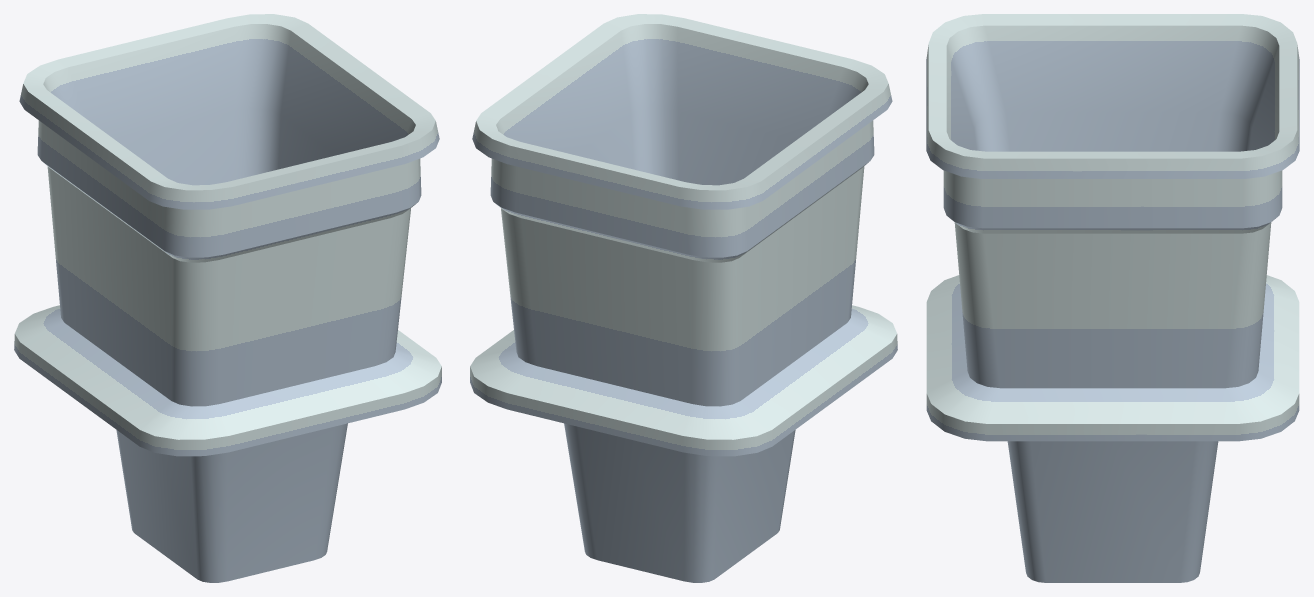
Rendered from separadoresBln.fbx.
The picture shows the model from 3 angles, left to right: view 1: azimuth 30°, elevation 25°; view 2: azimuth 150°, elevation 25°; view 3: azimuth 270°, elevation 25°; orthographic projection. The views are drawn at different scales.
Visible parts, largest first — view 1: separadoresBln; view 2: separadoresBln; view 3: separadoresBln.
Boxes of the visible parts, box(x1,y1,x2,y2) form: separadoresBln: box(14, 14, 441, 582); separadoresBln: box(470, 14, 897, 582); separadoresBln: box(926, 14, 1299, 582).
Bounding box in the file's own units: 265 × 375 × 273.
